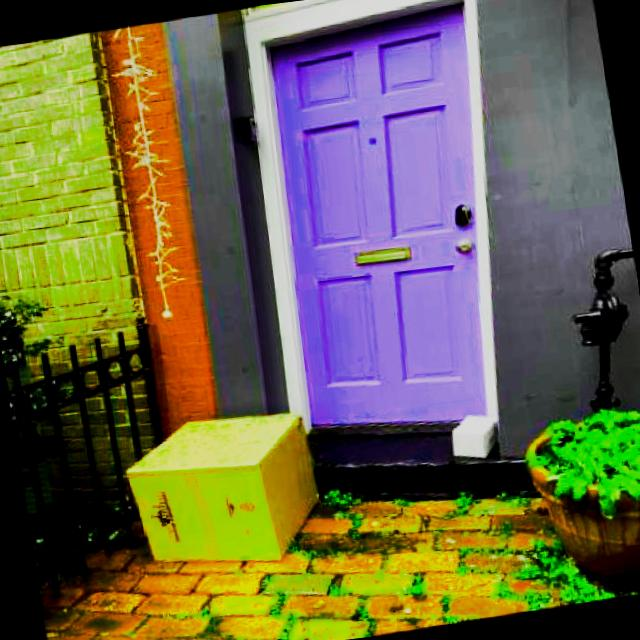Box: (110, 394, 342, 588), (444, 406, 509, 466)
